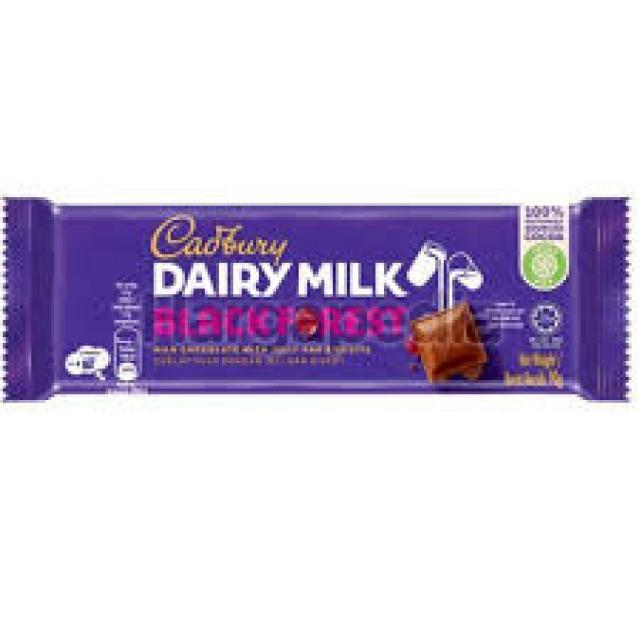cadbury_chocolate: (14, 208, 628, 418)
